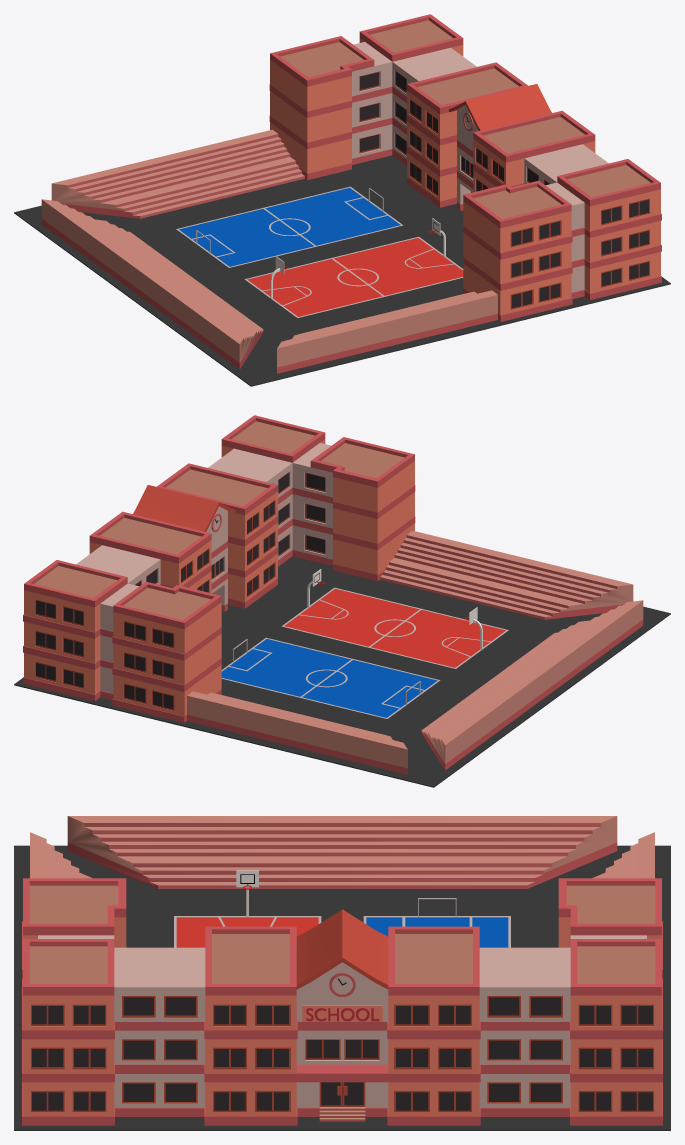
The model's file is low_poly_school.glb.
3 views of the same model, one above another, from view 1: azimuth 30°, elevation 25°; view 2: azimuth 150°, elevation 25°; view 3: azimuth 270°, elevation 25° (orthographic). The views are drawn at different scales.
Visible parts, largest first — view 1: PublicBuilding_School; view 2: PublicBuilding_School; view 3: PublicBuilding_School.
Part boxes in pixels (bbox=[...]): PublicBuilding_School: bbox=[14, 14, 670, 386]; PublicBuilding_School: bbox=[14, 415, 670, 787]; PublicBuilding_School: bbox=[14, 816, 670, 1130].
Size of what is drawn, in the model's own units: 23.09 by 6.18 by 22.58.
1 material, 1 textured.
